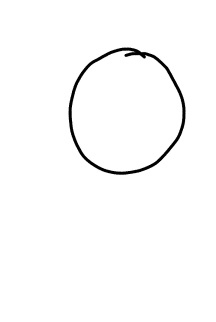Circle: (60, 44, 189, 180)
